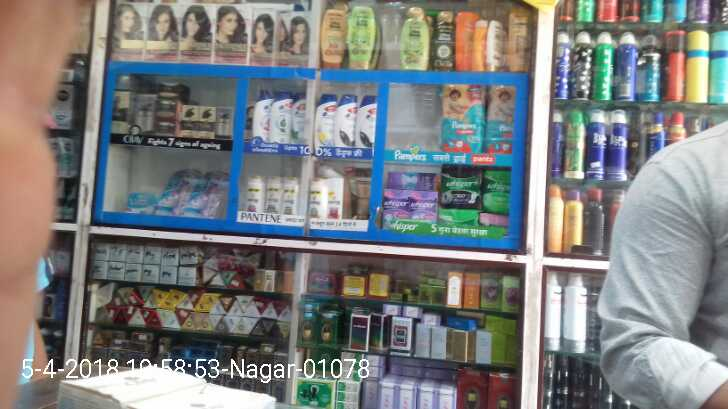venus: (189, 171, 228, 215), (163, 168, 189, 215), (128, 189, 158, 213)
